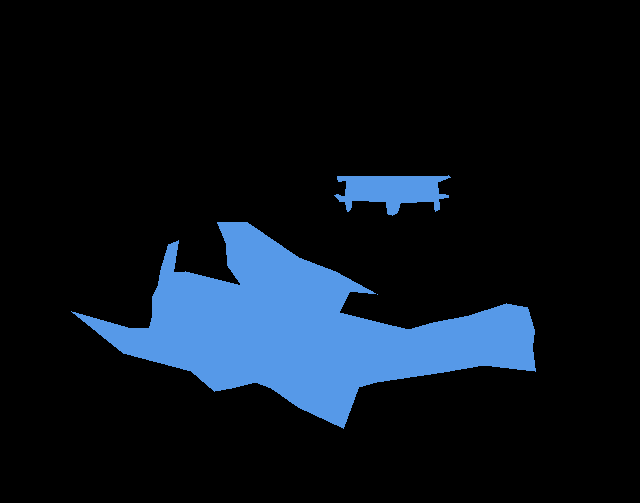Airplane: (71, 222, 535, 428), (334, 175, 450, 215)
